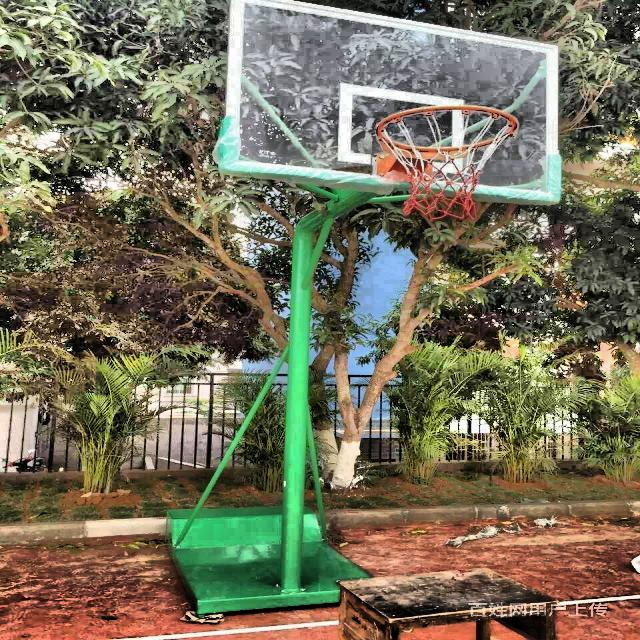rim: (378, 105, 519, 222)
